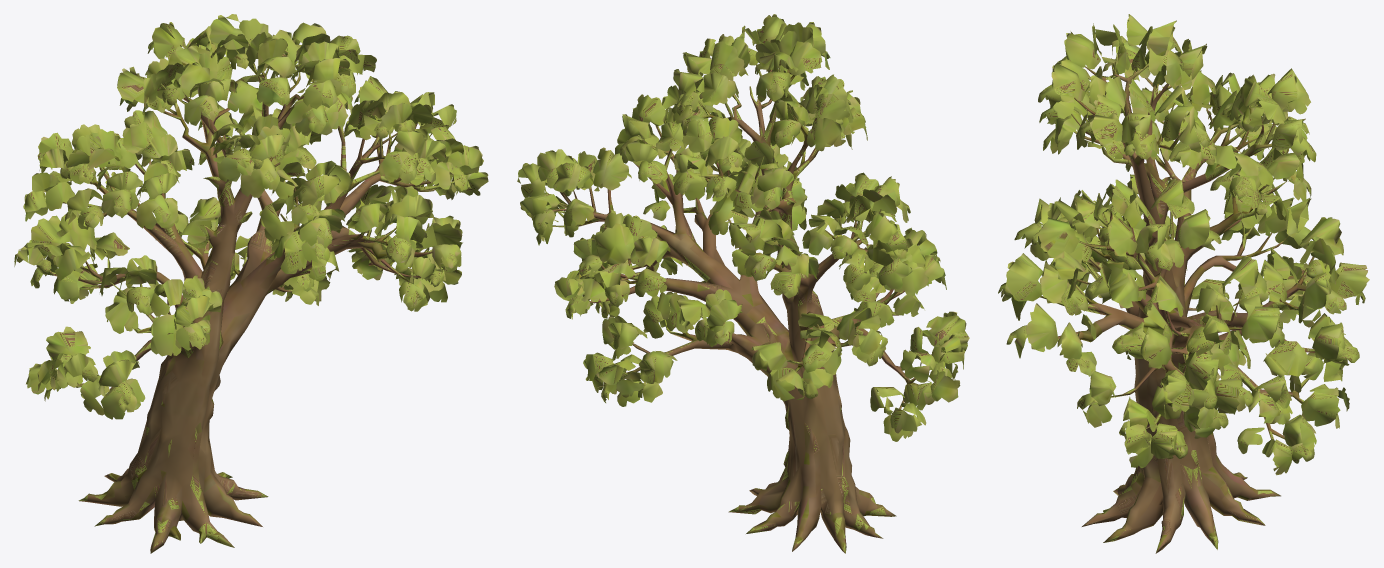
File: tree-4.glb
The picture shows the model from 3 angles, left to right: view 1: azimuth 30°, elevation 25°; view 2: azimuth 150°, elevation 25°; view 3: azimuth 270°, elevation 25°; orthographic projection. The views are drawn at different scales.
Bounding box in the file's own units: 0.9595 × 0.9995 × 0.6431.
1 material, 1 textured.
